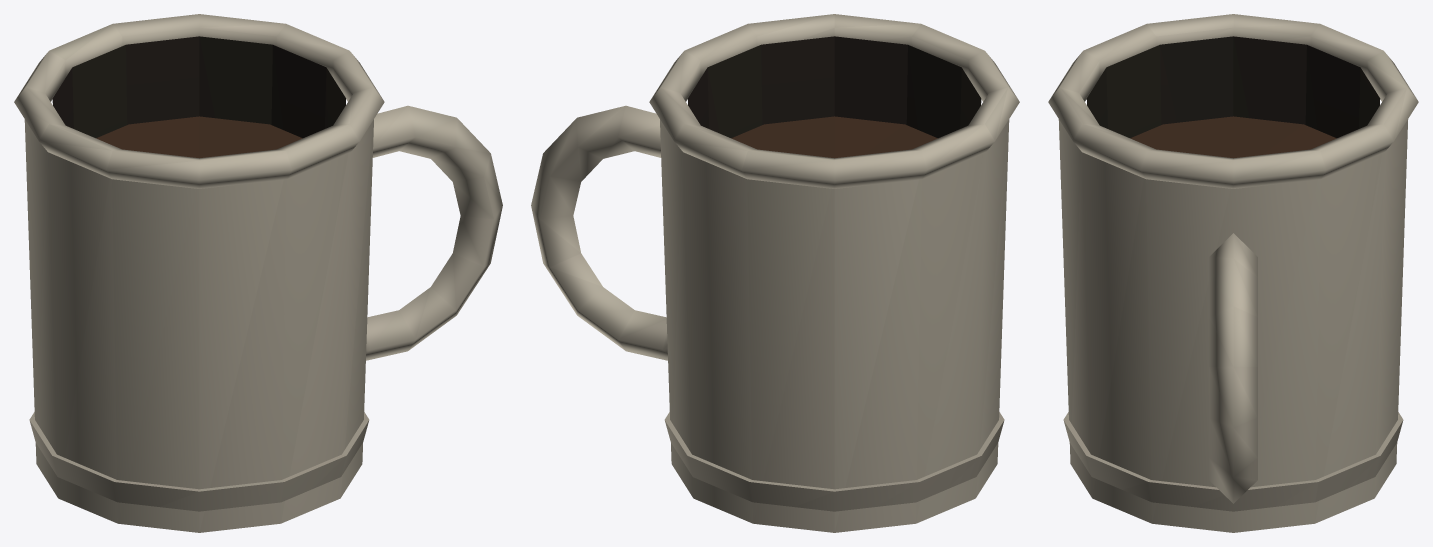
The model's file is coffee-mug.glb.
The picture shows the model from 3 angles, left to right: view 1: azimuth 30°, elevation 25°; view 2: azimuth 150°, elevation 25°; view 3: azimuth 270°, elevation 25°; orthographic projection.
Parts seen in each view (by area): view 1: coffee_mug; view 2: coffee_mug; view 3: coffee_mug.
Part boxes in pixels (x1,y1,x2,y2): coffee_mug: (14,14,502,532); coffee_mug: (531,14,1019,532); coffee_mug: (1048,14,1418,532).
Size of the model in its own units: 0.1315 by 0.102 by 0.091.
